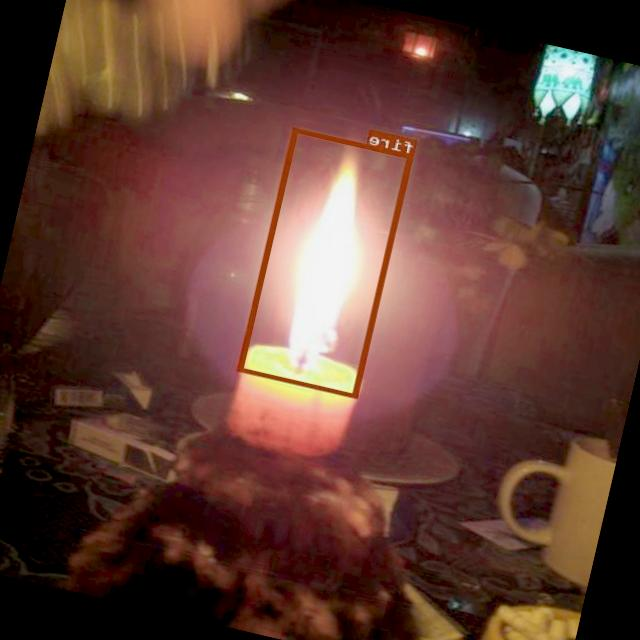fire: (238, 126, 414, 398)
